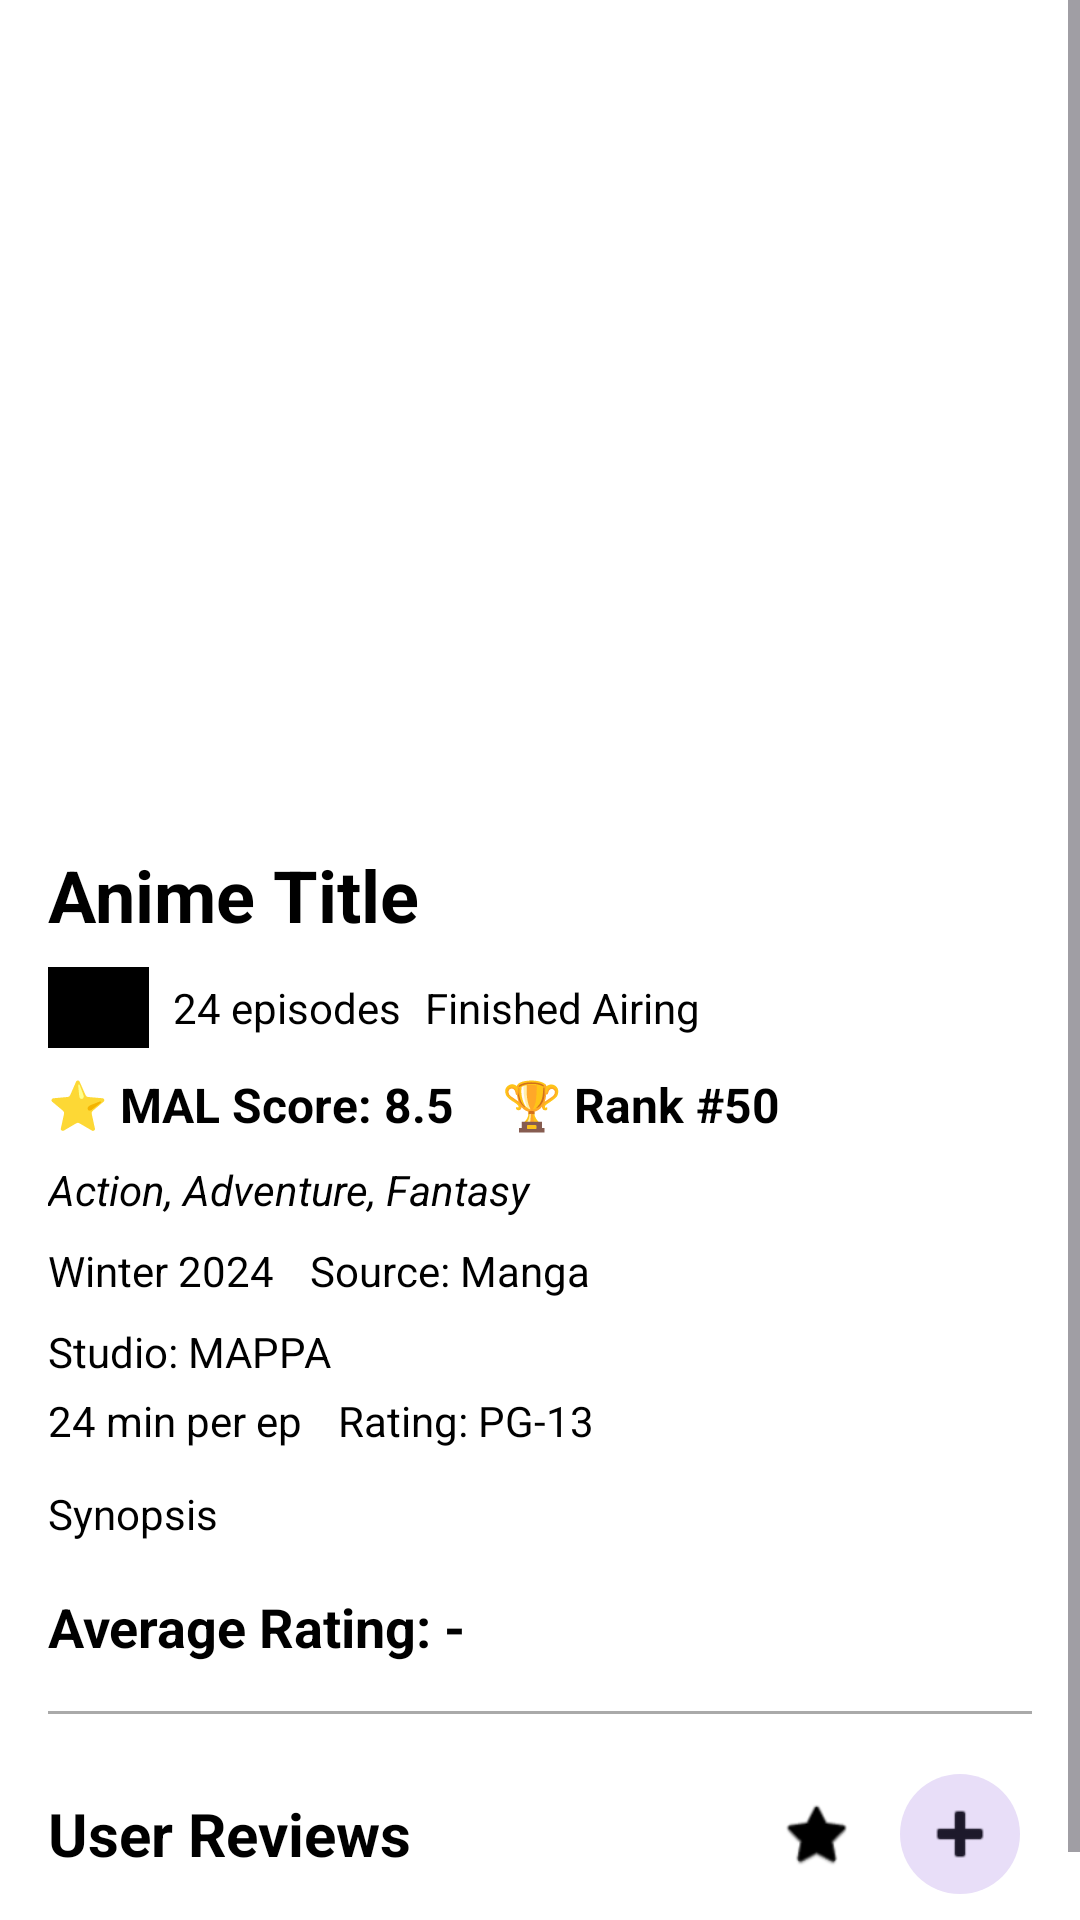

Screen size 1080*1920. Icon name, then its center in pixels as point (x, y):
Add to favorites: point (816, 1834)
